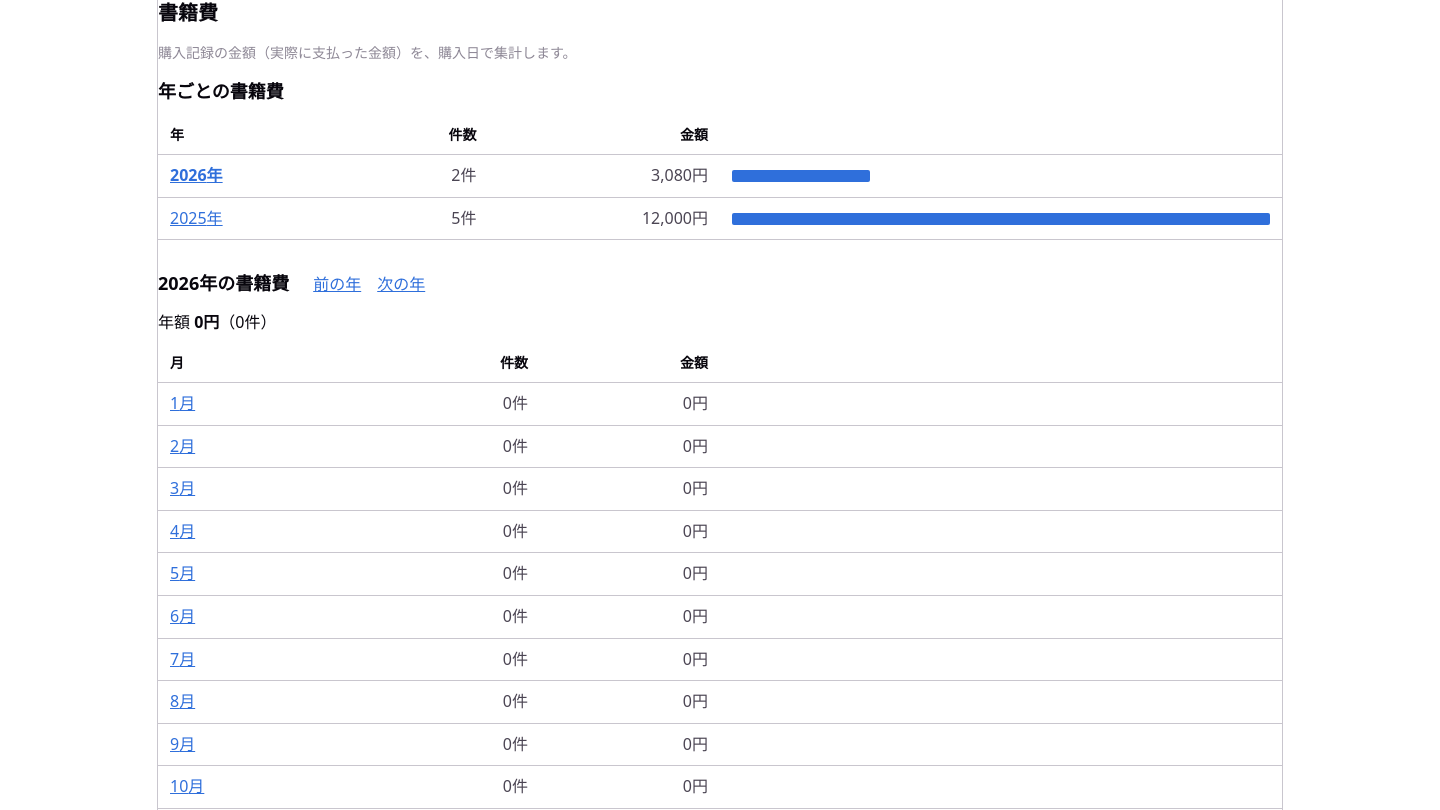
Test case: ExpensesPage › 年の書籍費 › 年ごとの表から年を選ぶと、その年を表示する
Step 1. Click the link "2025年" → (188, 218), box [170,207,223,229]
(page scrolled)
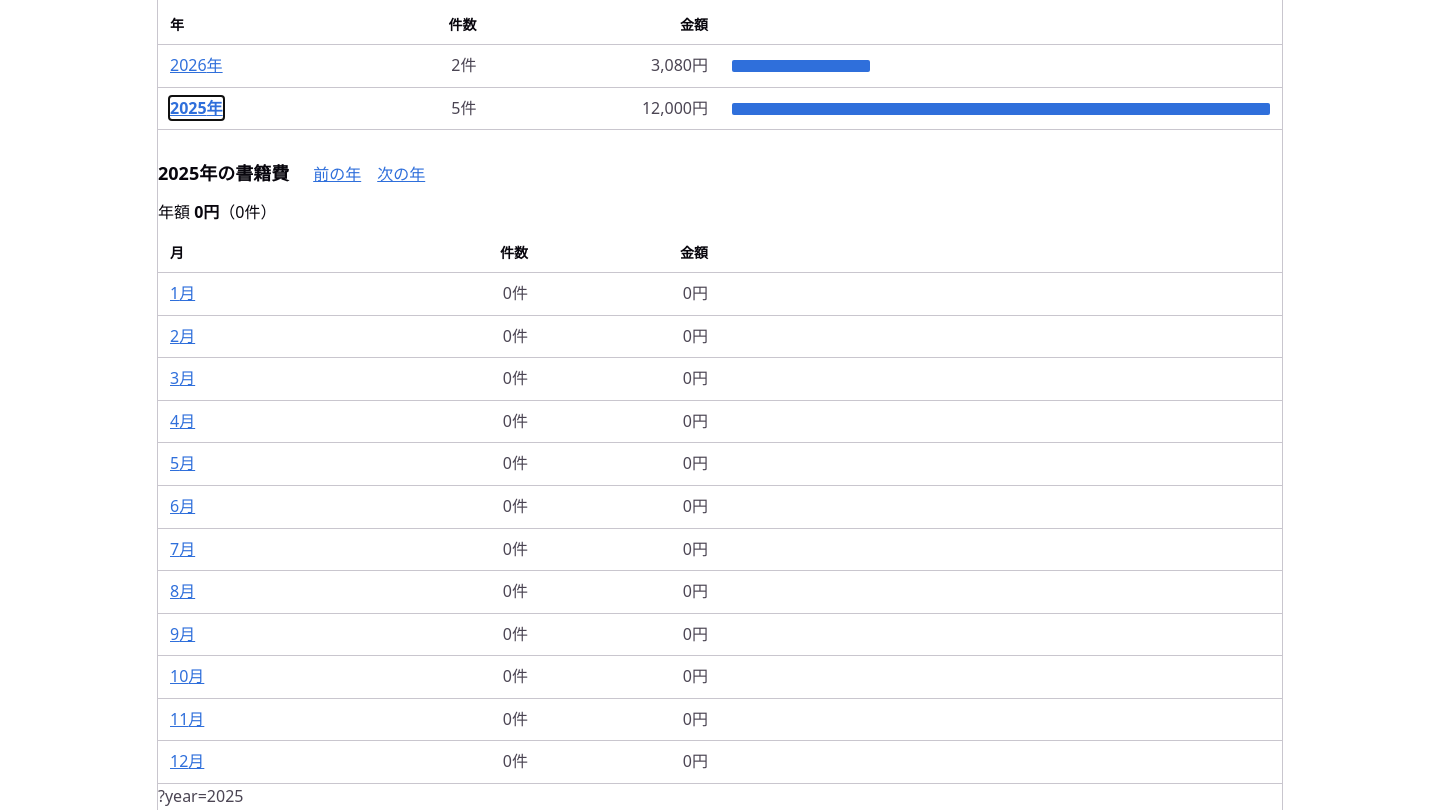
Check: the heading "2025年の書籍費" is shown, box [158,162,289,186]
Check: the text with test id "location-search" reads "?year=2025", box [158,785,244,807]
